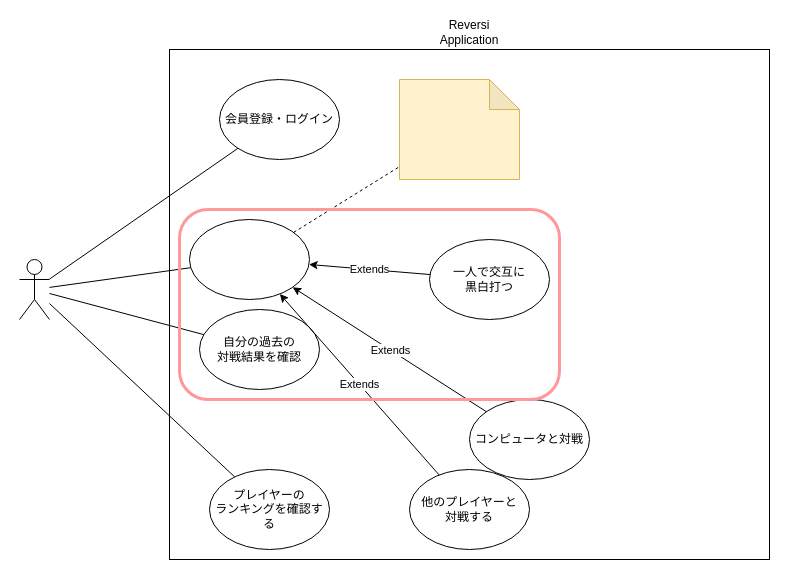
Some shapes in this 787 by 577 pixel diagram are drawn without their labels. Each missing label, with the centre of its shape:
Player: the point at 34,289
・対戦を開始する ・盤面を見る ・石を打つ ・勝敗を確認する: the point at 459,129
対戦: the point at 249,259
